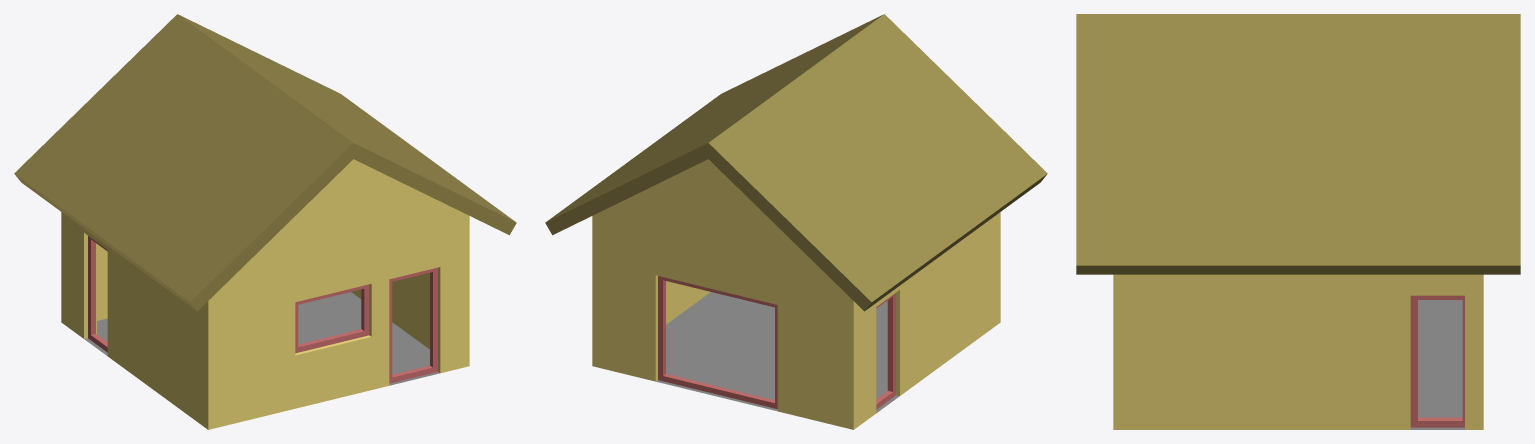
File: result.glb
The picture shows the model from 3 angles, left to right: view 1: azimuth 30°, elevation 25°; view 2: azimuth 150°, elevation 25°; view 3: azimuth 270°, elevation 25°; orthographic projection. The views are drawn at different scales.
Parts seen in each view (by area): view 1: b469d1de-0aa7-46e7-bac1-1a08bd92dd2e__undefined (×2), 5dc94fb9-37a4-4454-a846-261e5bf0741f__undefined, 2621820f-d5b2-4e93-bf88-c08c64eda4ad__Plane_6, 7ccf6cfe-2ea7-4f33-972c-625d90580a16__Box, 0c66fcfc-b7c6-49bb-9638-88b1f2c9a854__Box_3, 1517b08d-a09a-4502-8738-51e26ea95280__Box_12; view 2: b469d1de-0aa7-46e7-bac1-1a08bd92dd2e__undefined (×2), 5dc94fb9-37a4-4454-a846-261e5bf0741f__undefined, 2621820f-d5b2-4e93-bf88-c08c64eda4ad__Plane_6, 8dd9b495-0c9b-4410-94ce-a6b1d84e8718__Box_9, 1517b08d-a09a-4502-8738-51e26ea95280__Box_12; view 3: b469d1de-0aa7-46e7-bac1-1a08bd92dd2e__undefined, 5dc94fb9-37a4-4454-a846-261e5bf0741f__undefined, 2621820f-d5b2-4e93-bf88-c08c64eda4ad__Plane_6, 76533683-c5ce-4eb3-a2be-c384037fdc61__Box_15.
Boxes of the visible parts, x1,y1,x2,y2 form: b469d1de-0aa7-46e7-bac1-1a08bd92dd2e__undefined (×2): (14, 14, 516, 311); 5dc94fb9-37a4-4454-a846-261e5bf0741f__undefined: (61, 159, 469, 429); 2621820f-d5b2-4e93-bf88-c08c64eda4ad__Plane_6: (84, 292, 439, 385); 7ccf6cfe-2ea7-4f33-972c-625d90580a16__Box: (389, 267, 437, 383); 0c66fcfc-b7c6-49bb-9638-88b1f2c9a854__Box_3: (295, 284, 369, 353); 1517b08d-a09a-4502-8738-51e26ea95280__Box_12: (88, 236, 107, 352); b469d1de-0aa7-46e7-bac1-1a08bd92dd2e__undefined (×2): (545, 14, 1047, 311); 5dc94fb9-37a4-4454-a846-261e5bf0741f__undefined: (592, 159, 1000, 429); 2621820f-d5b2-4e93-bf88-c08c64eda4ad__Plane_6: (656, 292, 899, 412); 8dd9b495-0c9b-4410-94ce-a6b1d84e8718__Box_9: (658, 276, 777, 408); 1517b08d-a09a-4502-8738-51e26ea95280__Box_12: (876, 293, 895, 409); b469d1de-0aa7-46e7-bac1-1a08bd92dd2e__undefined: (1076, 14, 1520, 274); 5dc94fb9-37a4-4454-a846-261e5bf0741f__undefined: (1113, 274, 1483, 429); 2621820f-d5b2-4e93-bf88-c08c64eda4ad__Plane_6: (1410, 300, 1464, 429); 76533683-c5ce-4eb3-a2be-c384037fdc61__Box_15: (1410, 295, 1464, 427).
Size of the model in its own units: 643 by 500 by 600.
